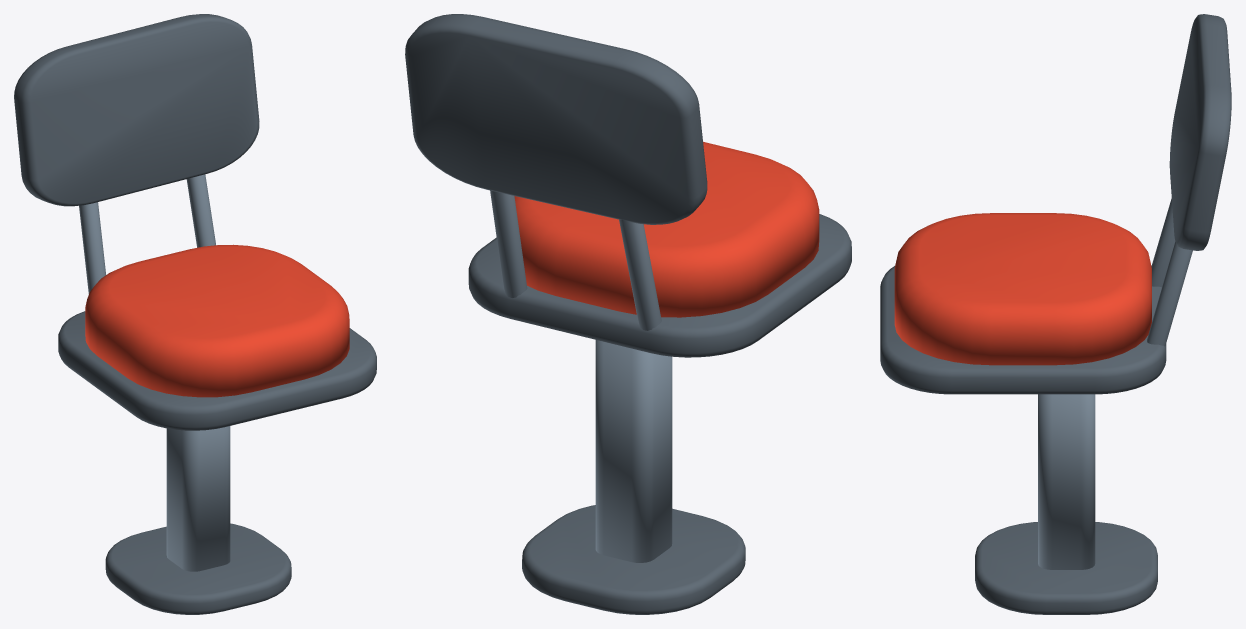
The model's file is Chair.fbx.
The picture shows the model from 3 angles, left to right: view 1: azimuth 30°, elevation 25°; view 2: azimuth 150°, elevation 25°; view 3: azimuth 270°, elevation 25°; orthographic projection. The views are drawn at different scales.
Visible parts, largest first — view 1: Chair; view 2: Chair; view 3: Chair.
Part boxes in pixels (x1,y1,x2,y2): Chair: (14, 14, 376, 614); Chair: (405, 14, 851, 614); Chair: (880, 14, 1231, 614).
Bounding box in the file's own units: 60.8 × 121 × 73.72.
